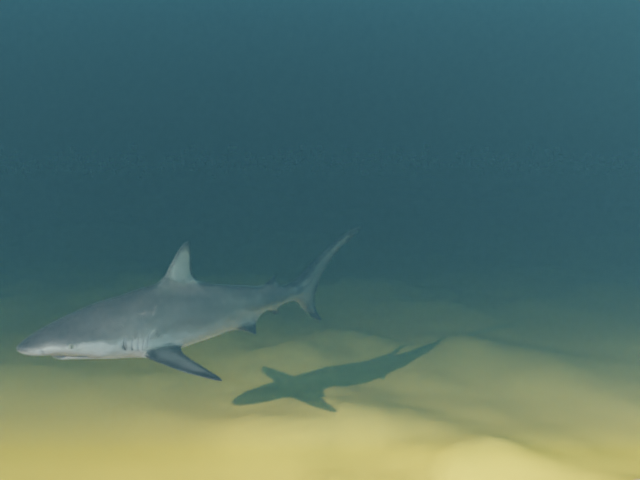Carribean Shark.001: (16, 226, 360, 381)
